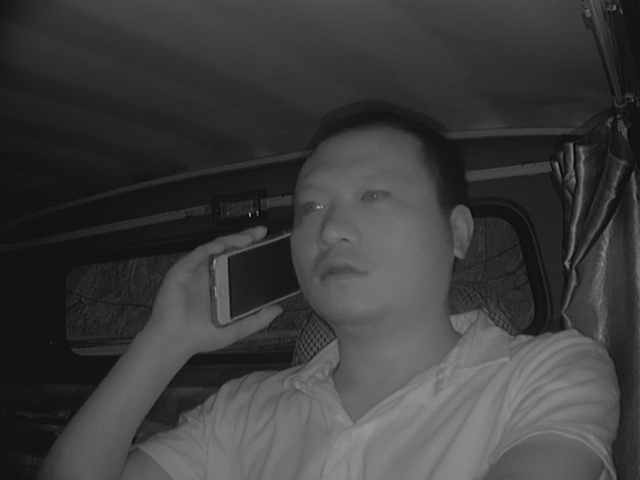hand: (162, 223, 280, 360)
